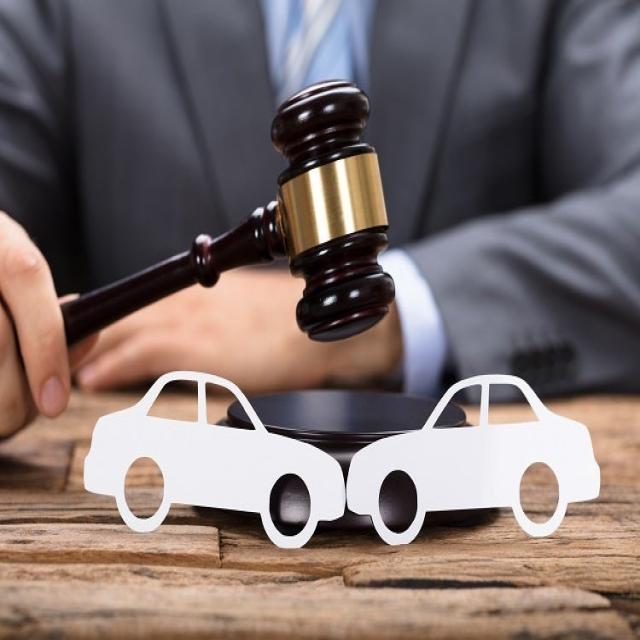Accident: (80, 368, 604, 554)
